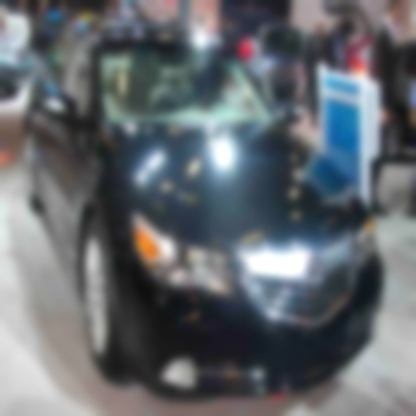Vehicle: (24, 17, 388, 405)
